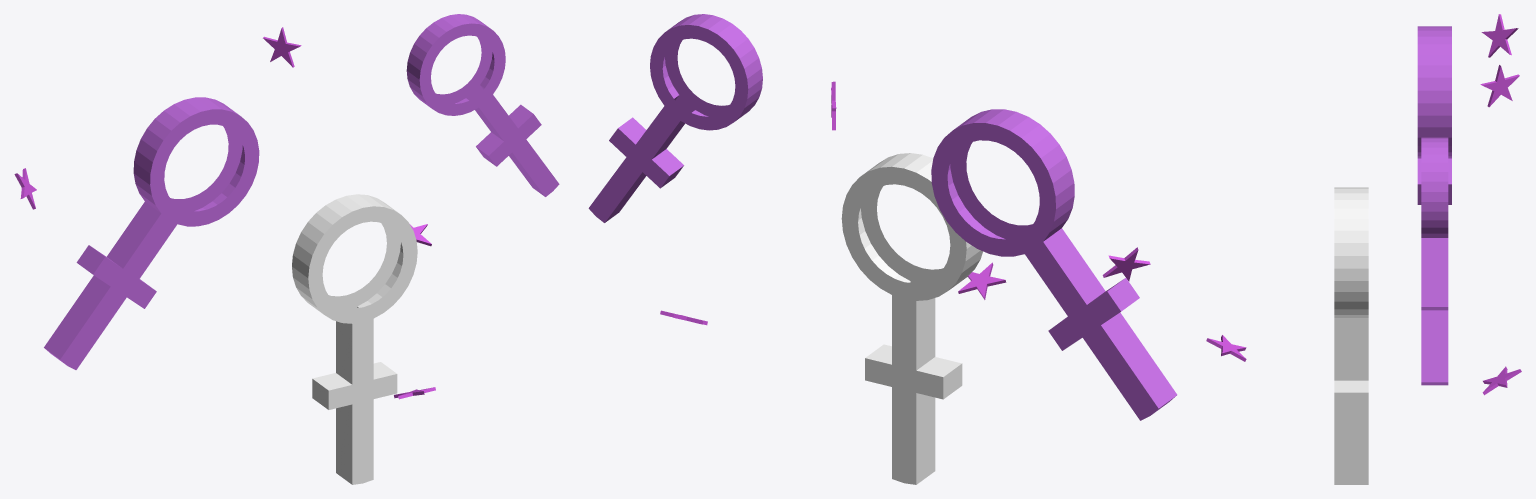
The model's file is BlenderFile2.gltf.
3 views of the same model, side by side, from view 1: azimuth 30°, elevation 25°; view 2: azimuth 150°, elevation 25°; view 3: azimuth 270°, elevation 25° (orthographic). The views are drawn at different scales.
Parts seen in each view (by area): view 1: LeftVenus, MiddleVenus, RightVenus; view 2: LeftVenus, MiddleVenus, RightVenus, Star4, Star3; view 3: MiddleVenus, RightVenus, LeftVenus, Star3, Star1, Star4, Star2.
Part boxes in pixels (x1,y1,x2,y2): LeftVenus: (44,97,259,369); MiddleVenus: (292,194,417,484); RightVenus: (406,14,559,196); LeftVenus: (931,109,1177,420); MiddleVenus: (841,153,982,484); RightVenus: (588,14,762,222); Star4: (958,262,1006,299); Star3: (1102,247,1150,281); MiddleVenus: (1334,187,1368,484); RightVenus: (1421,137,1448,385); LeftVenus: (1417,26,1451,204); Star3: (1481,14,1518,57); Star1: (1480,65,1519,107); Star4: (1206,335,1246,361); Star2: (1482,366,1521,395).
Size of the model in its own units: 9.39 by 7.01 by 4.84.
